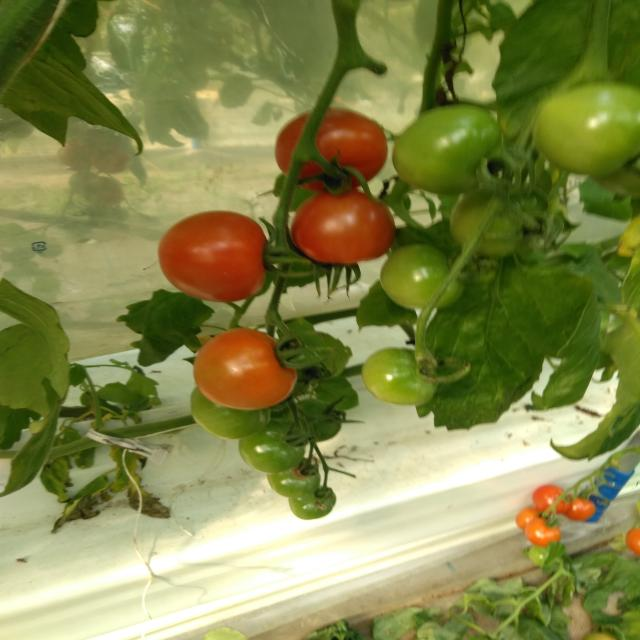c-half-riped: (193, 327, 297, 410), (524, 516, 561, 548), (515, 506, 550, 530)
c-riped: (158, 209, 268, 303), (275, 106, 389, 192), (291, 188, 397, 264), (532, 485, 572, 515), (561, 496, 595, 522)
c-unriped: (532, 82, 639, 176), (392, 106, 501, 194), (380, 243, 465, 309), (448, 187, 524, 259), (361, 348, 440, 406), (190, 385, 270, 439), (238, 416, 308, 473), (283, 398, 342, 442), (267, 458, 321, 498), (288, 485, 338, 520)
